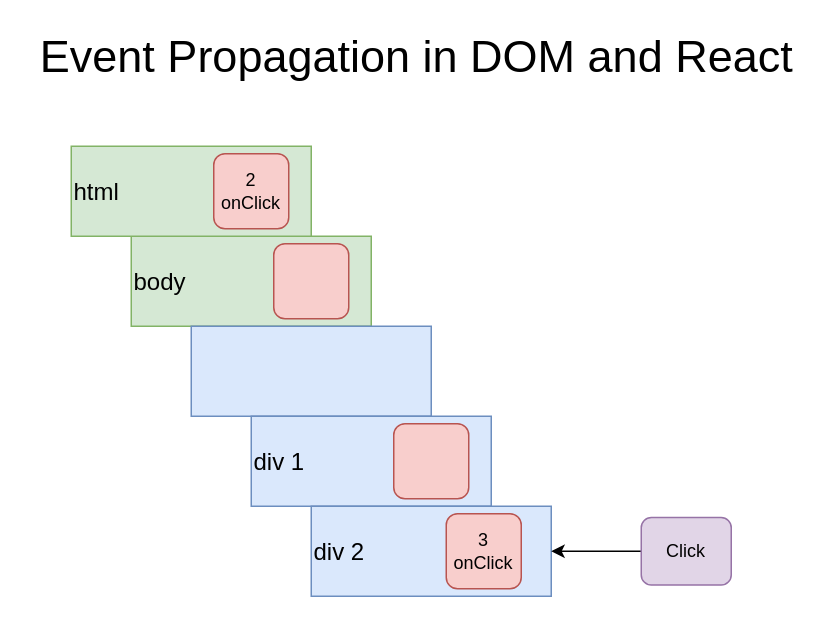
The diagram is 831 pixels wide and 623 high, and some of its shapes have lost their labels. Each missing label, with the centre of its shape:
"1 onClick" belongs at (x=310, y=280).
"4 onClick" belongs at (x=430, y=460).
"Component" belongs at (x=310, y=370).
